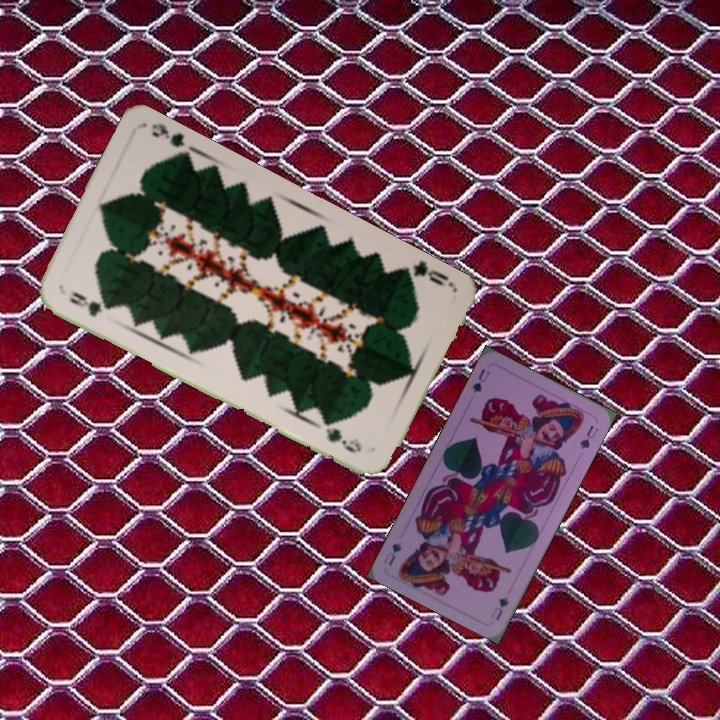G9: (398, 257, 456, 289), (65, 287, 113, 319)
GU: (468, 364, 492, 396), (487, 593, 511, 623)
